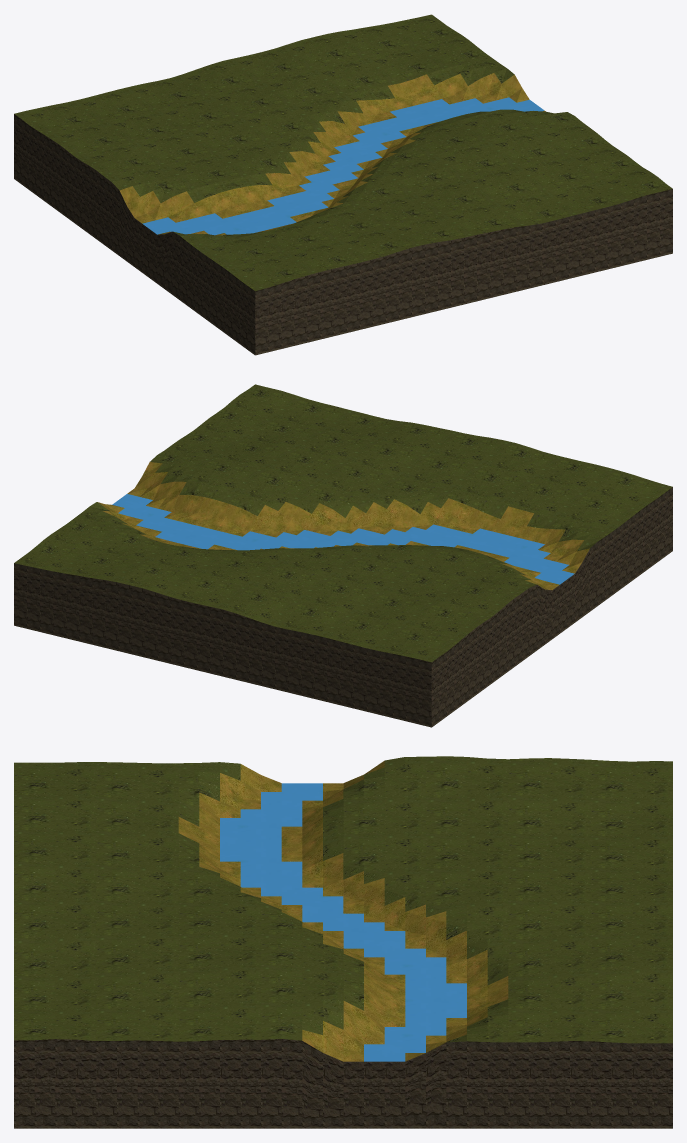
Rendered from river_bend_01.glb.
3 renders of one model, top to bottom at view 1: azimuth 30°, elevation 25°; view 2: azimuth 150°, elevation 25°; view 3: azimuth 270°, elevation 25°, orthographic. The views are drawn at different scales.
Parts seen in each view (by area): view 1: river_bend_01; view 2: river_bend_01; view 3: river_bend_01.
Boxes of the visible parts, box(x1,y1,x2,y2) form: river_bend_01: box(14, 14, 672, 355); river_bend_01: box(14, 384, 672, 727); river_bend_01: box(14, 756, 672, 1128).
Bounding box in the file's own units: 16 × 2.58 × 16.
4 materials, 4 textured.
